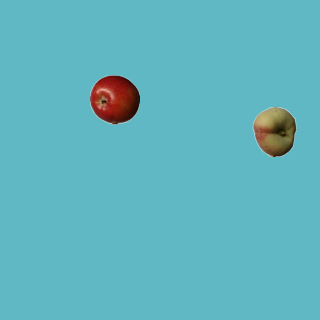Apple Braeburn: (89, 74, 139, 124)
Peach Flat: (249, 106, 299, 156)
